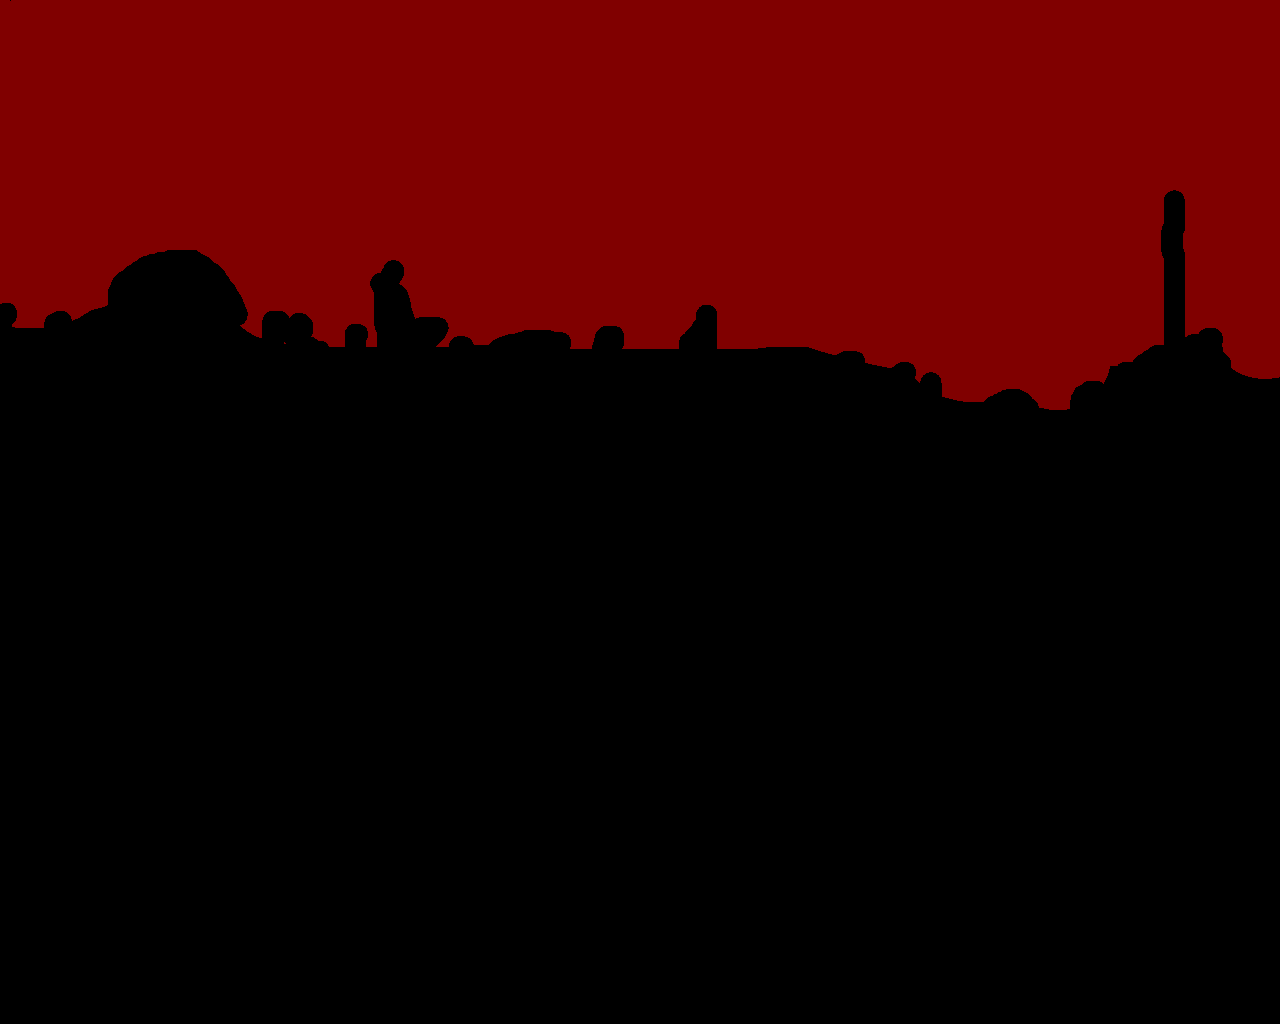Sky: (1, 1, 1279, 410)
